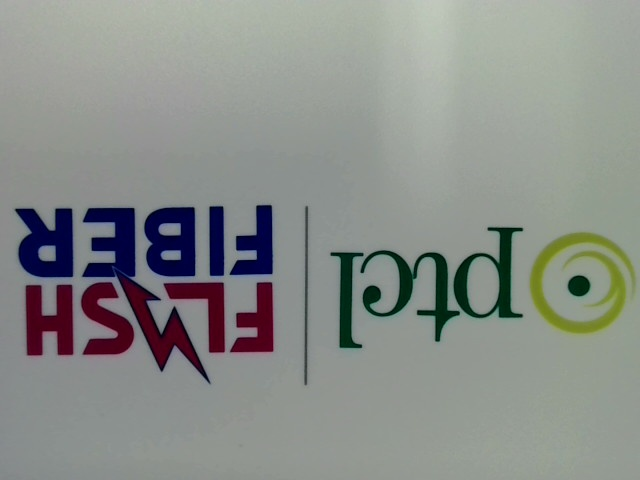BF_PTCL: (325, 212, 635, 352)
